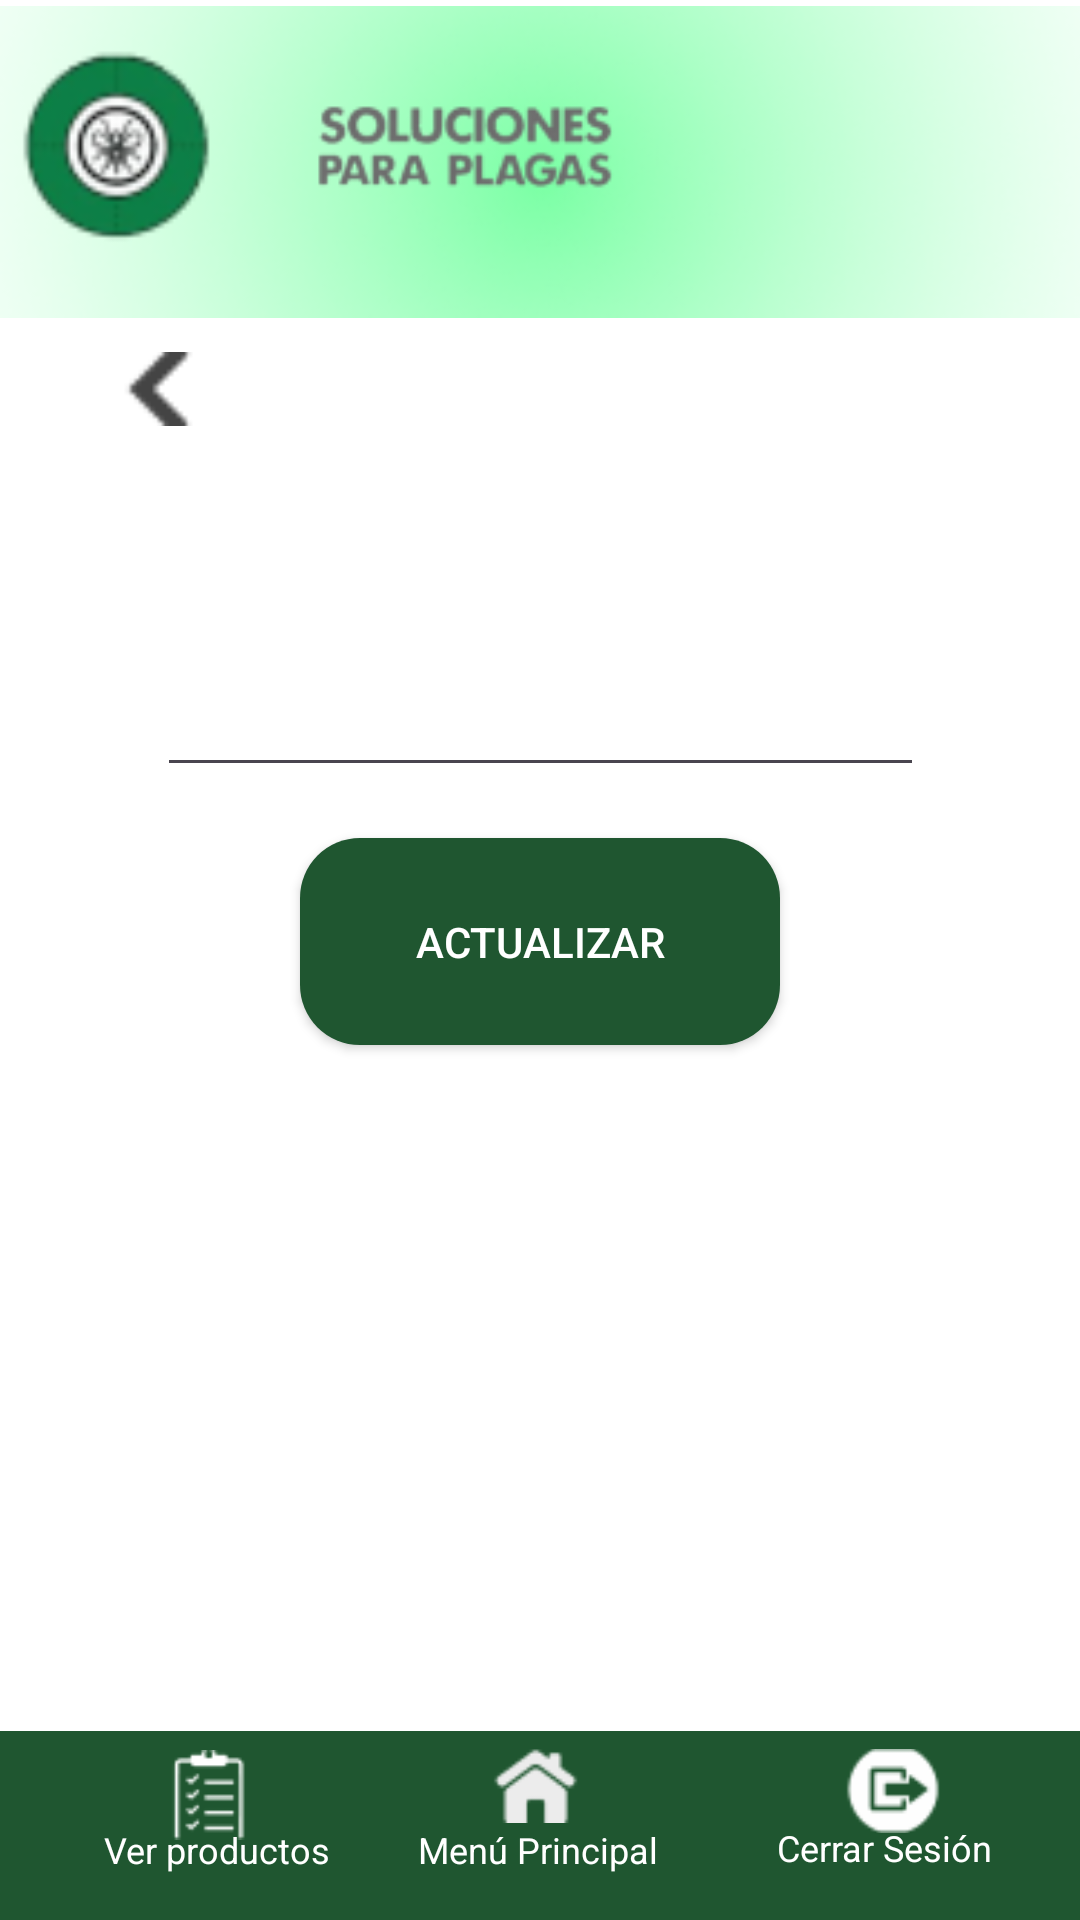

Screen size 1080w x 1920h. Icon name, then its center in pixels as point (x, y):
iconoflechair: point (158, 389)
